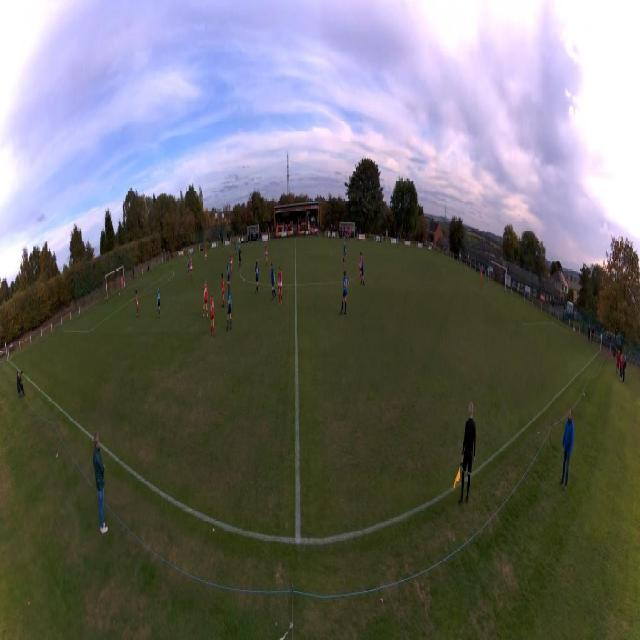ball: (119, 293, 120, 295)
player: (339, 269, 349, 315), (226, 287, 232, 331), (202, 280, 208, 319), (210, 292, 215, 338), (271, 263, 277, 301), (278, 266, 283, 306), (255, 260, 260, 294), (360, 256, 365, 287), (221, 273, 225, 308), (227, 259, 231, 291), (157, 288, 161, 319), (136, 291, 140, 318), (229, 251, 233, 277), (342, 241, 346, 266), (238, 245, 242, 269), (359, 252, 362, 281), (265, 242, 268, 267), (190, 258, 193, 279), (187, 255, 190, 276), (234, 240, 237, 258), (204, 248, 207, 265), (121, 276, 124, 291), (480, 270, 482, 288)
